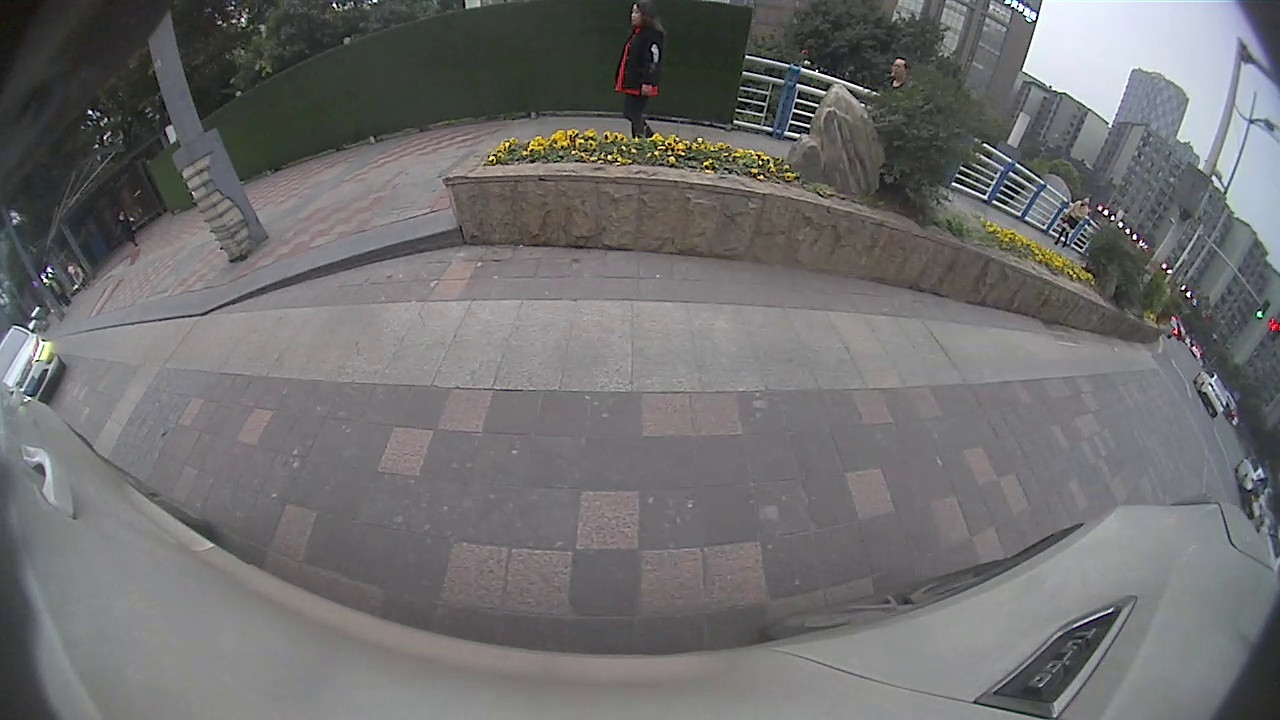car: (2, 324, 65, 402)
person: (625, 0, 664, 135)
